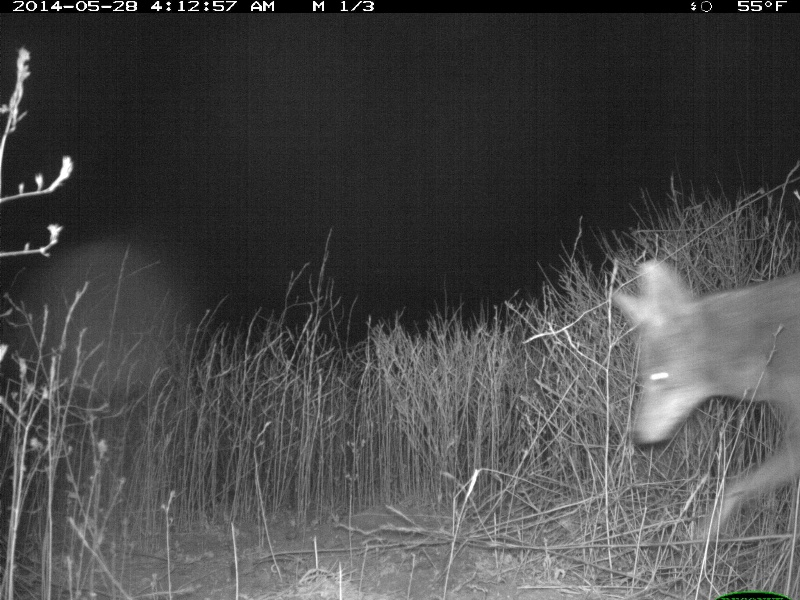coyote: (610, 251, 800, 537)
